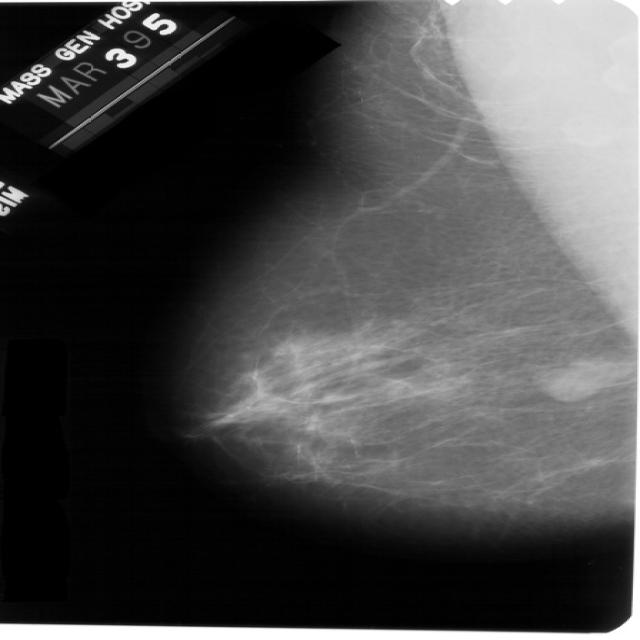tumour: (533, 356, 623, 402)
